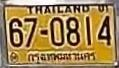0: (49, 16, 64, 46)
1: (86, 16, 91, 44)
4: (97, 15, 110, 45)
6: (9, 17, 22, 46)
7: (24, 17, 36, 47)
8: (66, 16, 79, 45)
BKK: (24, 50, 99, 64)
